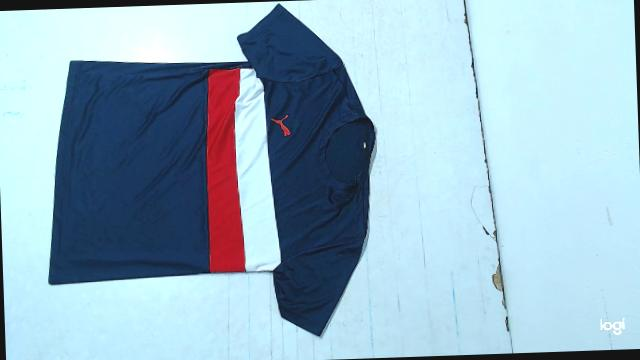new-garment: (49, 4, 375, 336)
